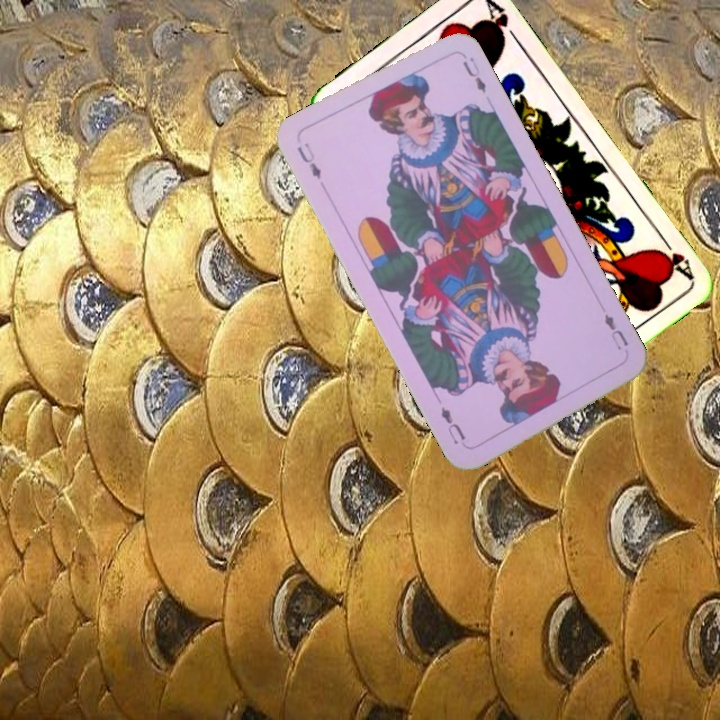EU: (600, 309, 631, 353), (293, 138, 324, 182)
HA: (651, 228, 696, 281)
